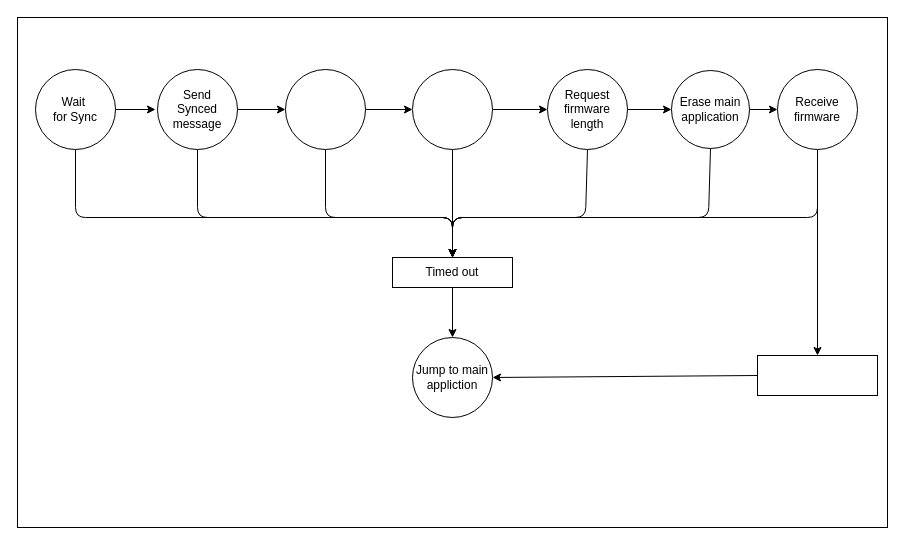
Image size: 905x545. Some labels were removed from this diagram. The centre of each missing label's shape, as x and y in pixels:
"Firmware update complete" goes at point (817, 375).
"Request firmware device ID" goes at point (452, 109).
"Wait for firmware update request" goes at point (325, 109).
